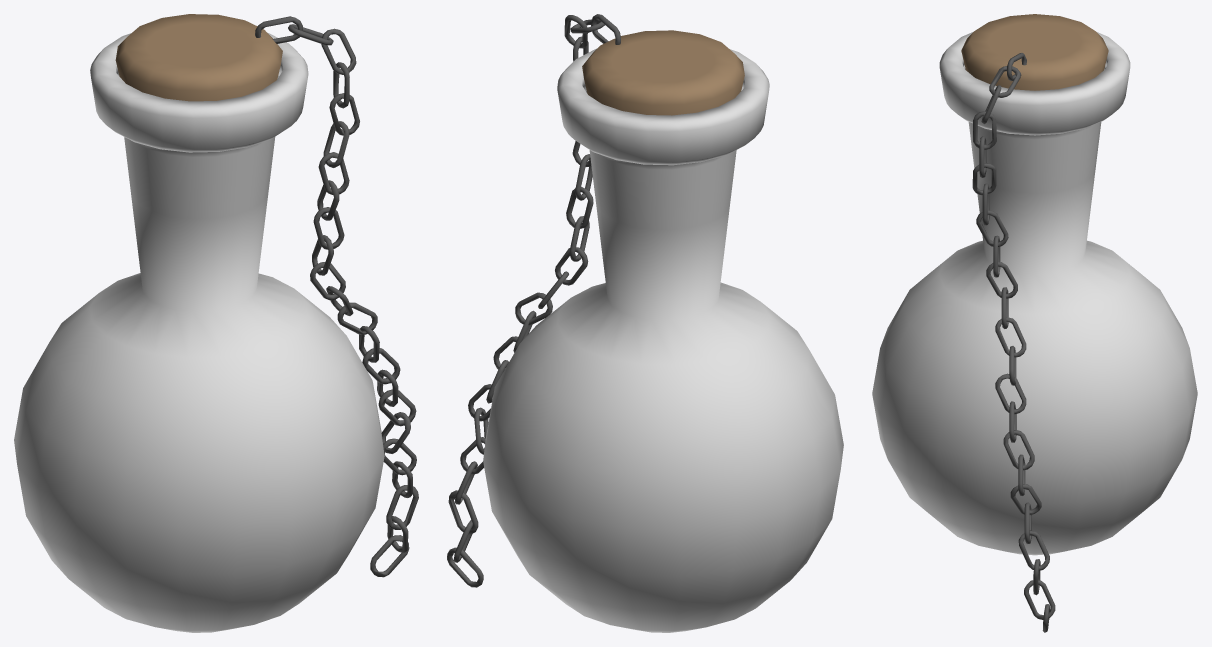
The model's file is potion red.fbx.
3 views of the same model, side by side, from view 1: azimuth 30°, elevation 25°; view 2: azimuth 150°, elevation 25°; view 3: azimuth 270°, elevation 25° (orthographic). The views are drawn at different scales.
Visible parts, largest first — view 1: Sphere, Cylinder, Torus.018; view 2: Sphere, Cylinder, Torus.018; view 3: Sphere, Cylinder, Torus.018.
Part boxes in pixels (x1,y1,x2,y2): Sphere: (14, 32, 384, 632); Cylinder: (115, 14, 282, 101); Torus.018: (255, 16, 418, 577); Sphere: (483, 48, 843, 632); Cylinder: (582, 30, 744, 115); Torus.018: (447, 14, 620, 587); Sphere: (872, 32, 1197, 555); Cylinder: (961, 14, 1108, 90); Torus.018: (972, 53, 1055, 632).
Size of the model in its own units: 236 by 356 by 200.
